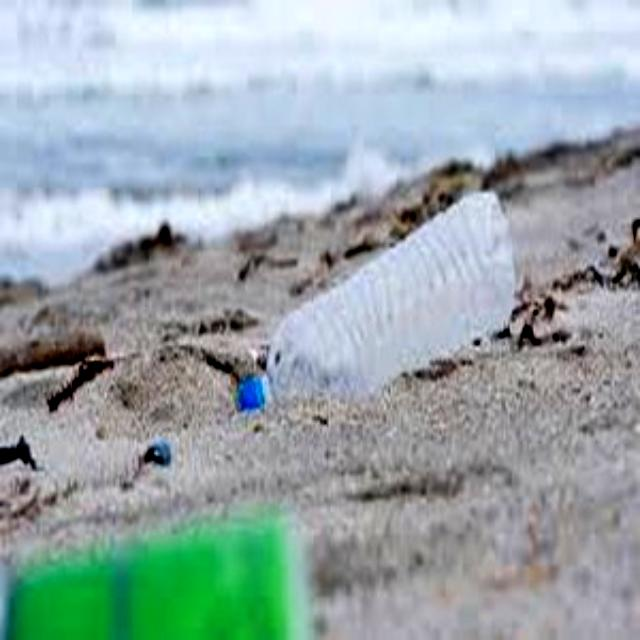Plastic: (236, 179, 528, 417)
